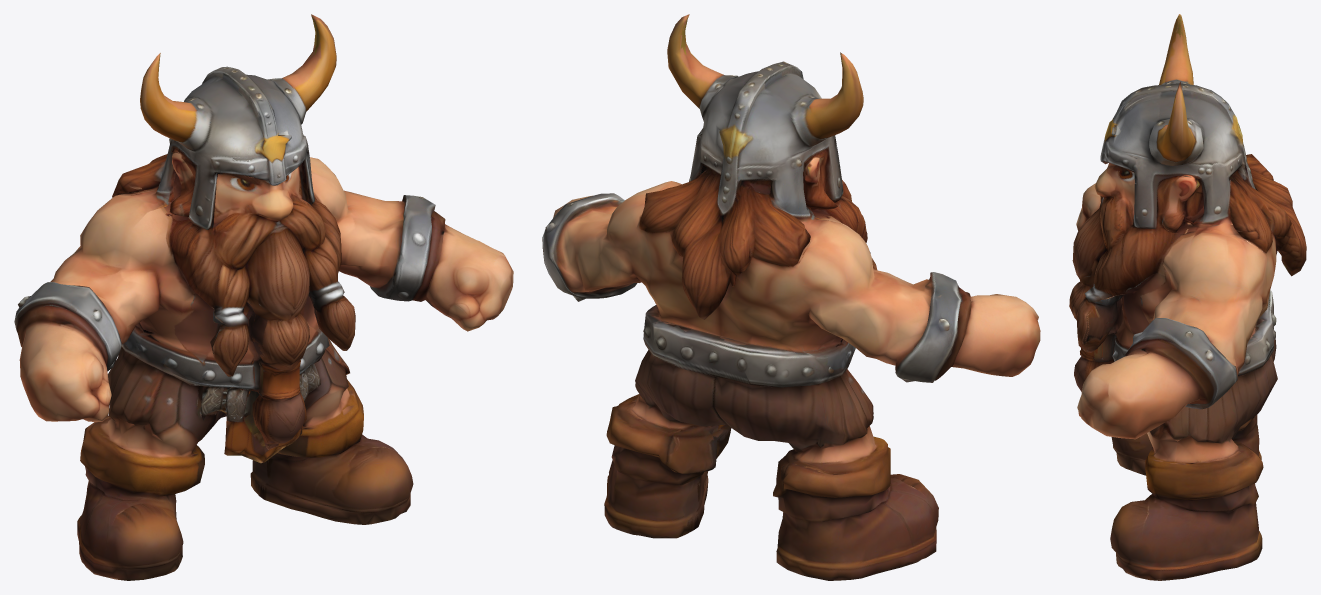
File: herald.glb
The picture shows the model from 3 angles, left to right: view 1: azimuth 30°, elevation 25°; view 2: azimuth 150°, elevation 25°; view 3: azimuth 270°, elevation 25°; orthographic projection. The views are drawn at different scales.
Parts seen in each view (by area): view 1: Mesh_0; view 2: Mesh_0; view 3: Mesh_0.
Part boxes in pixels (box(x1,y1,x2,y2)): Mesh_0: box(14, 14, 513, 580); Mesh_0: box(542, 14, 1040, 580); Mesh_0: box(1069, 14, 1306, 580).
Size of the model in its own units: 1.32 by 1.3 by 0.6052.
Materials: 1 (1 with a texture image).
